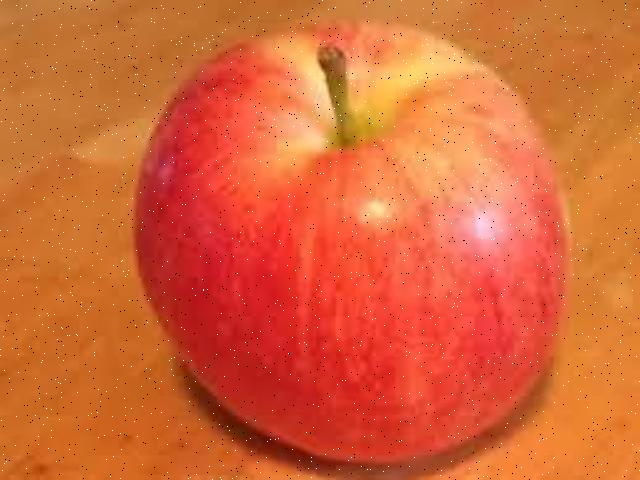apple: (130, 15, 573, 470)
